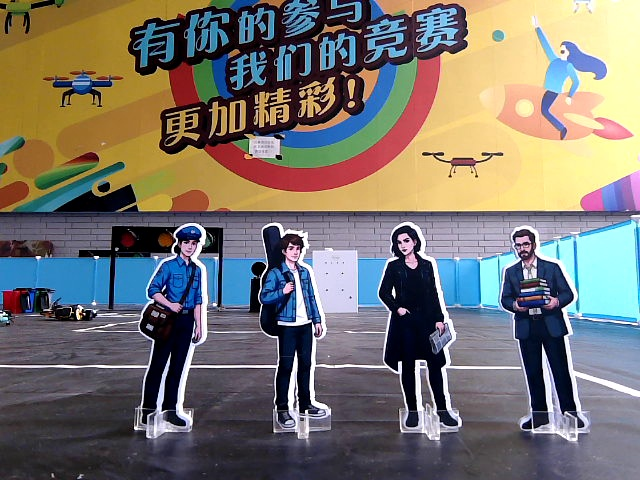community_person: (496, 218, 592, 446), (372, 215, 466, 446), (249, 221, 341, 444), (132, 215, 217, 443)
